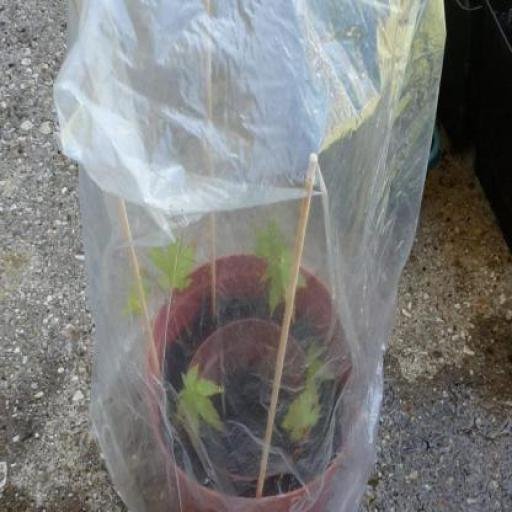plastic bag: (51, 0, 446, 511)
